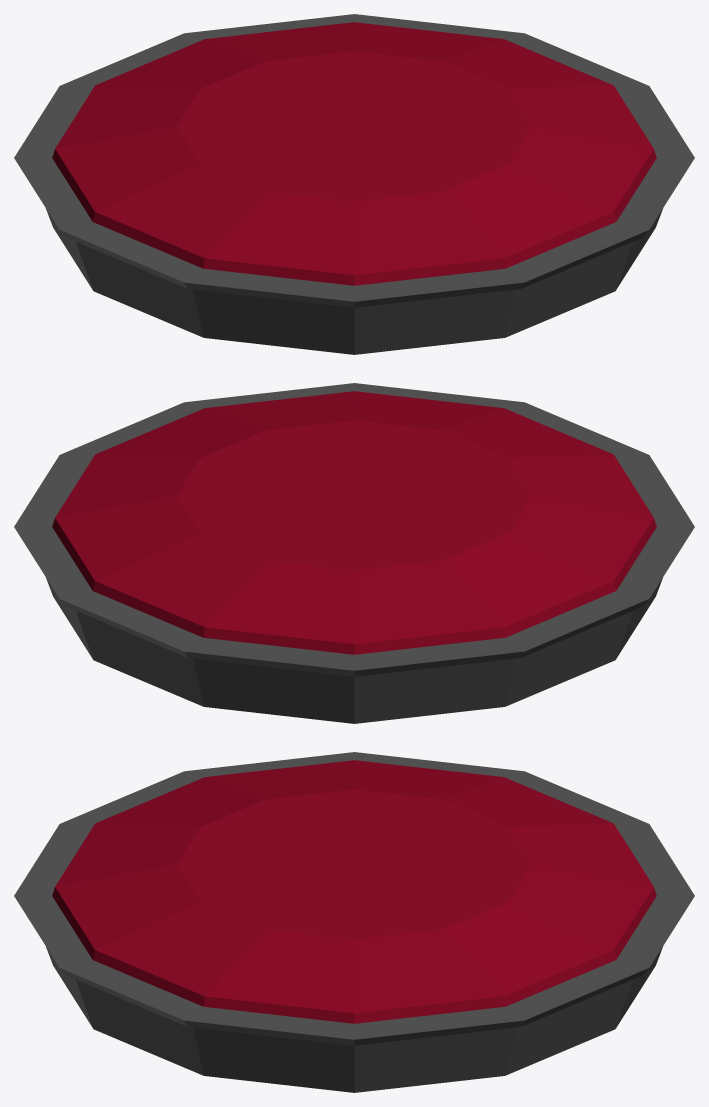
The model's file is PieTinUp.fbx.
The picture shows the model from 3 angles, top to bottom: view 1: azimuth 30°, elevation 25°; view 2: azimuth 150°, elevation 25°; view 3: azimuth 270°, elevation 25°; orthographic projection.
Parts seen in each view (by area): view 1: PieTinUp; view 2: PieTinUp; view 3: PieTinUp.
Part boxes in pixels (x1=…): PieTinUp: x1=14, y1=14, x2=694, y2=354; PieTinUp: x1=14, y1=383, x2=694, y2=723; PieTinUp: x1=14, y1=752, x2=694, y2=1092.
Bounding box in the file's own units: 45.07 × 7.39 × 45.07.
